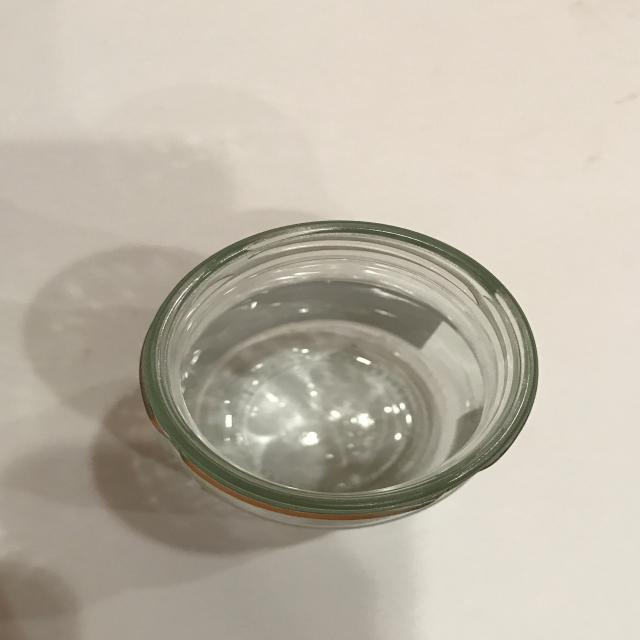Glass: (124, 205, 556, 540)
